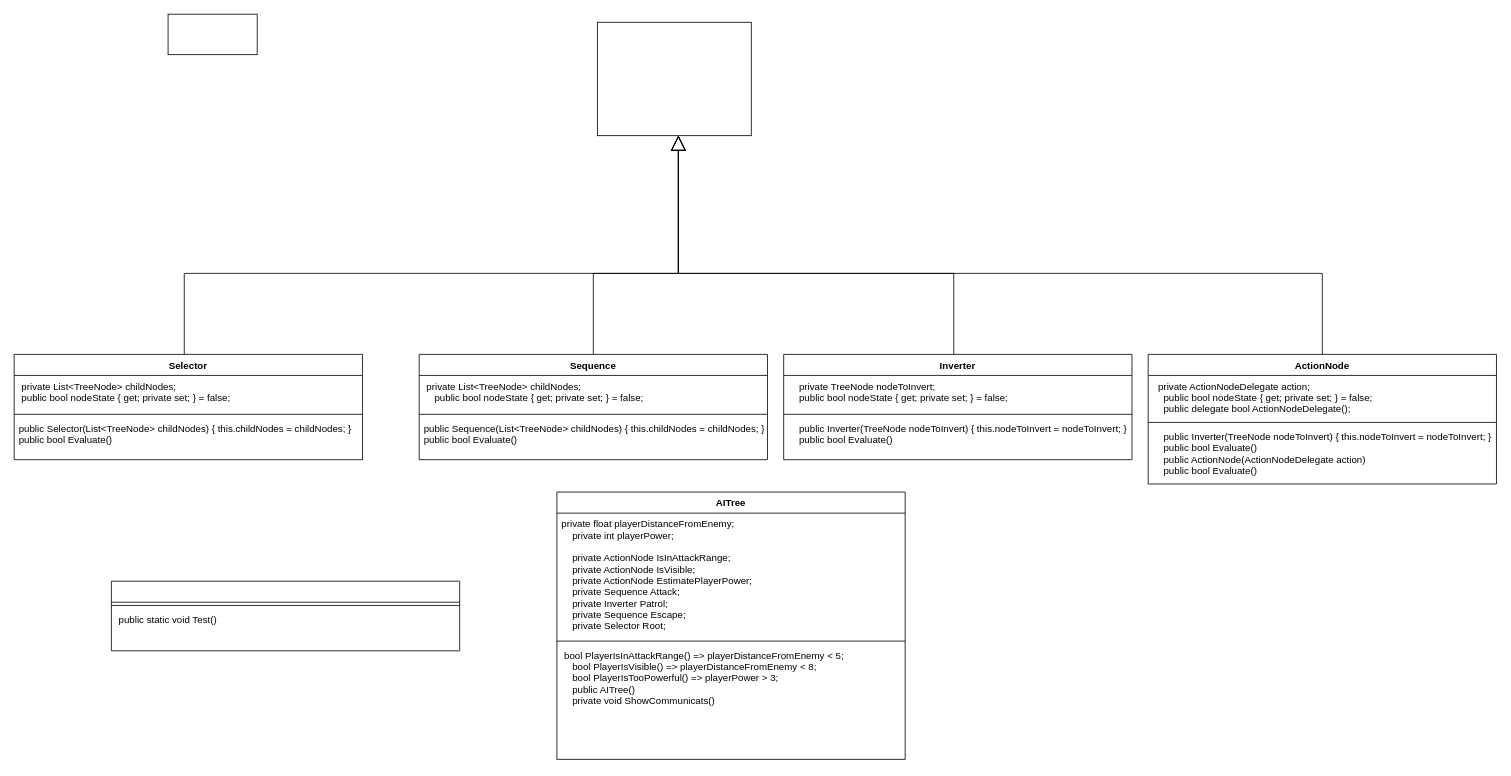
The diagram is 1511 pixels wide and 776 high, and some of its shapes have lost their labels. Here are the shapes that lost their labels. From the top down, the box of each, then its label:
(167, 13, 257, 55): «TreeNode» Name
(597, 21, 751, 136): <<Interface>> TreeNode +bool nodeState { get; } +bool Evaluate();
(111, 580, 460, 651): DecisionTree
